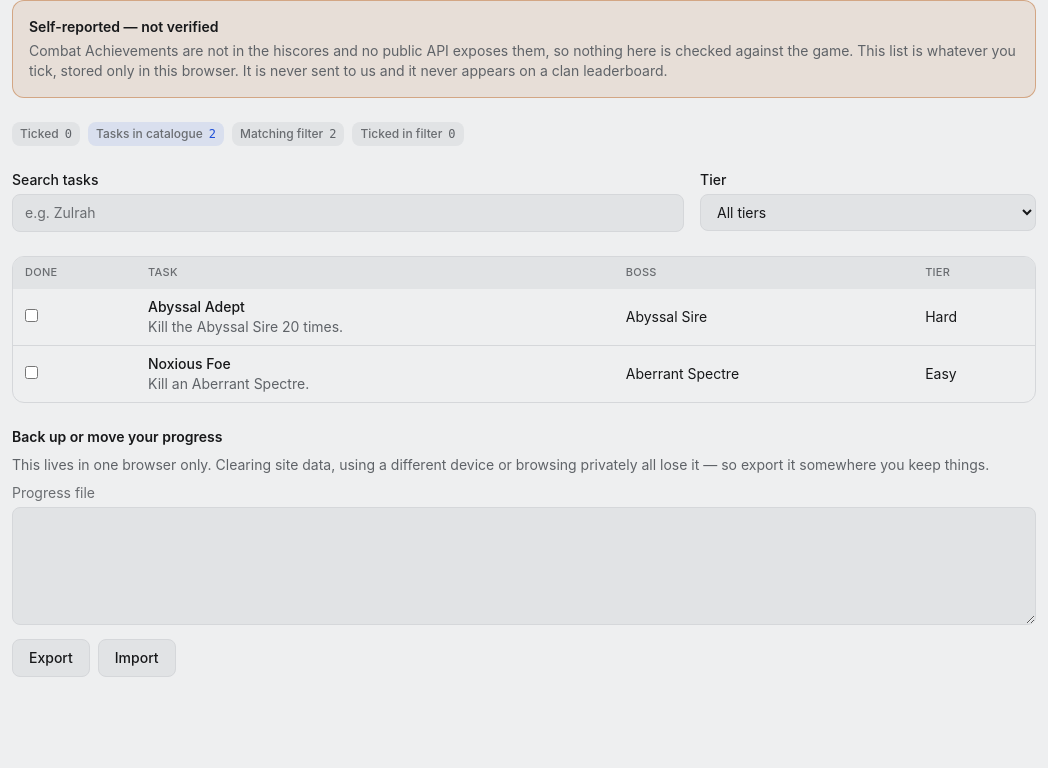
Test case: CombatAchievementTracker › filters by tier
Select "Easy" in the dropdown labelled "Tier" at (868, 212), box [700,194,1036,231]
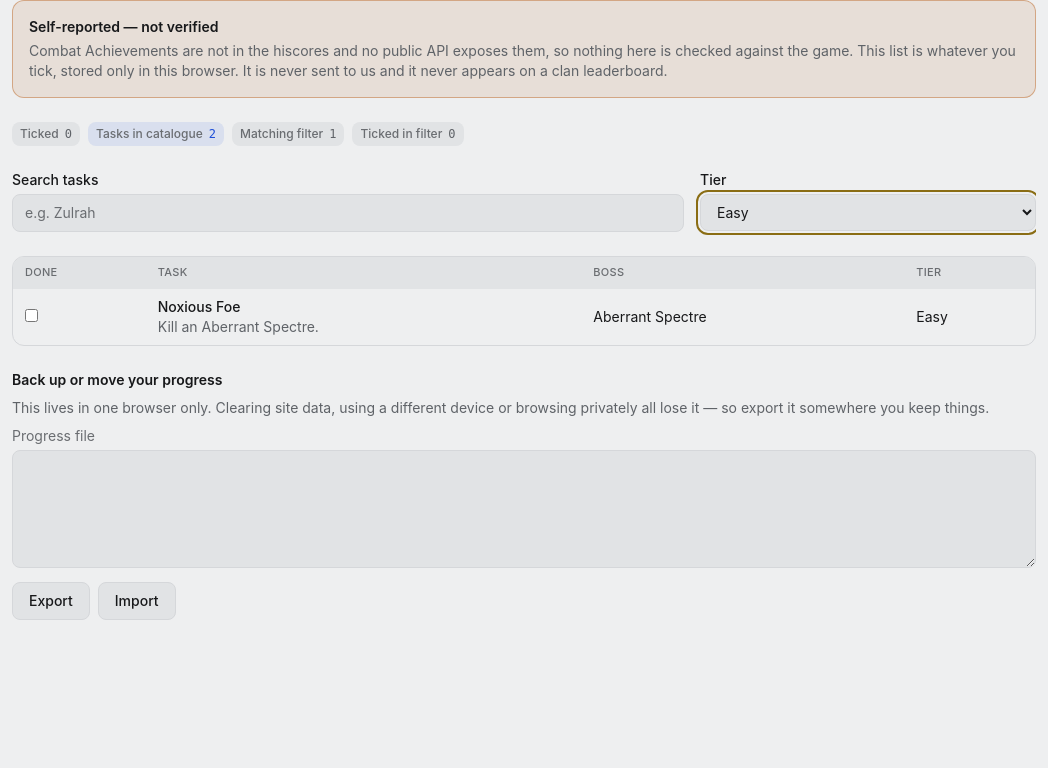
Expected: the checkbox named "Noxious Foe" is shown, [25,309,38,322]
Now the text "Abyssal Adept" is gone
